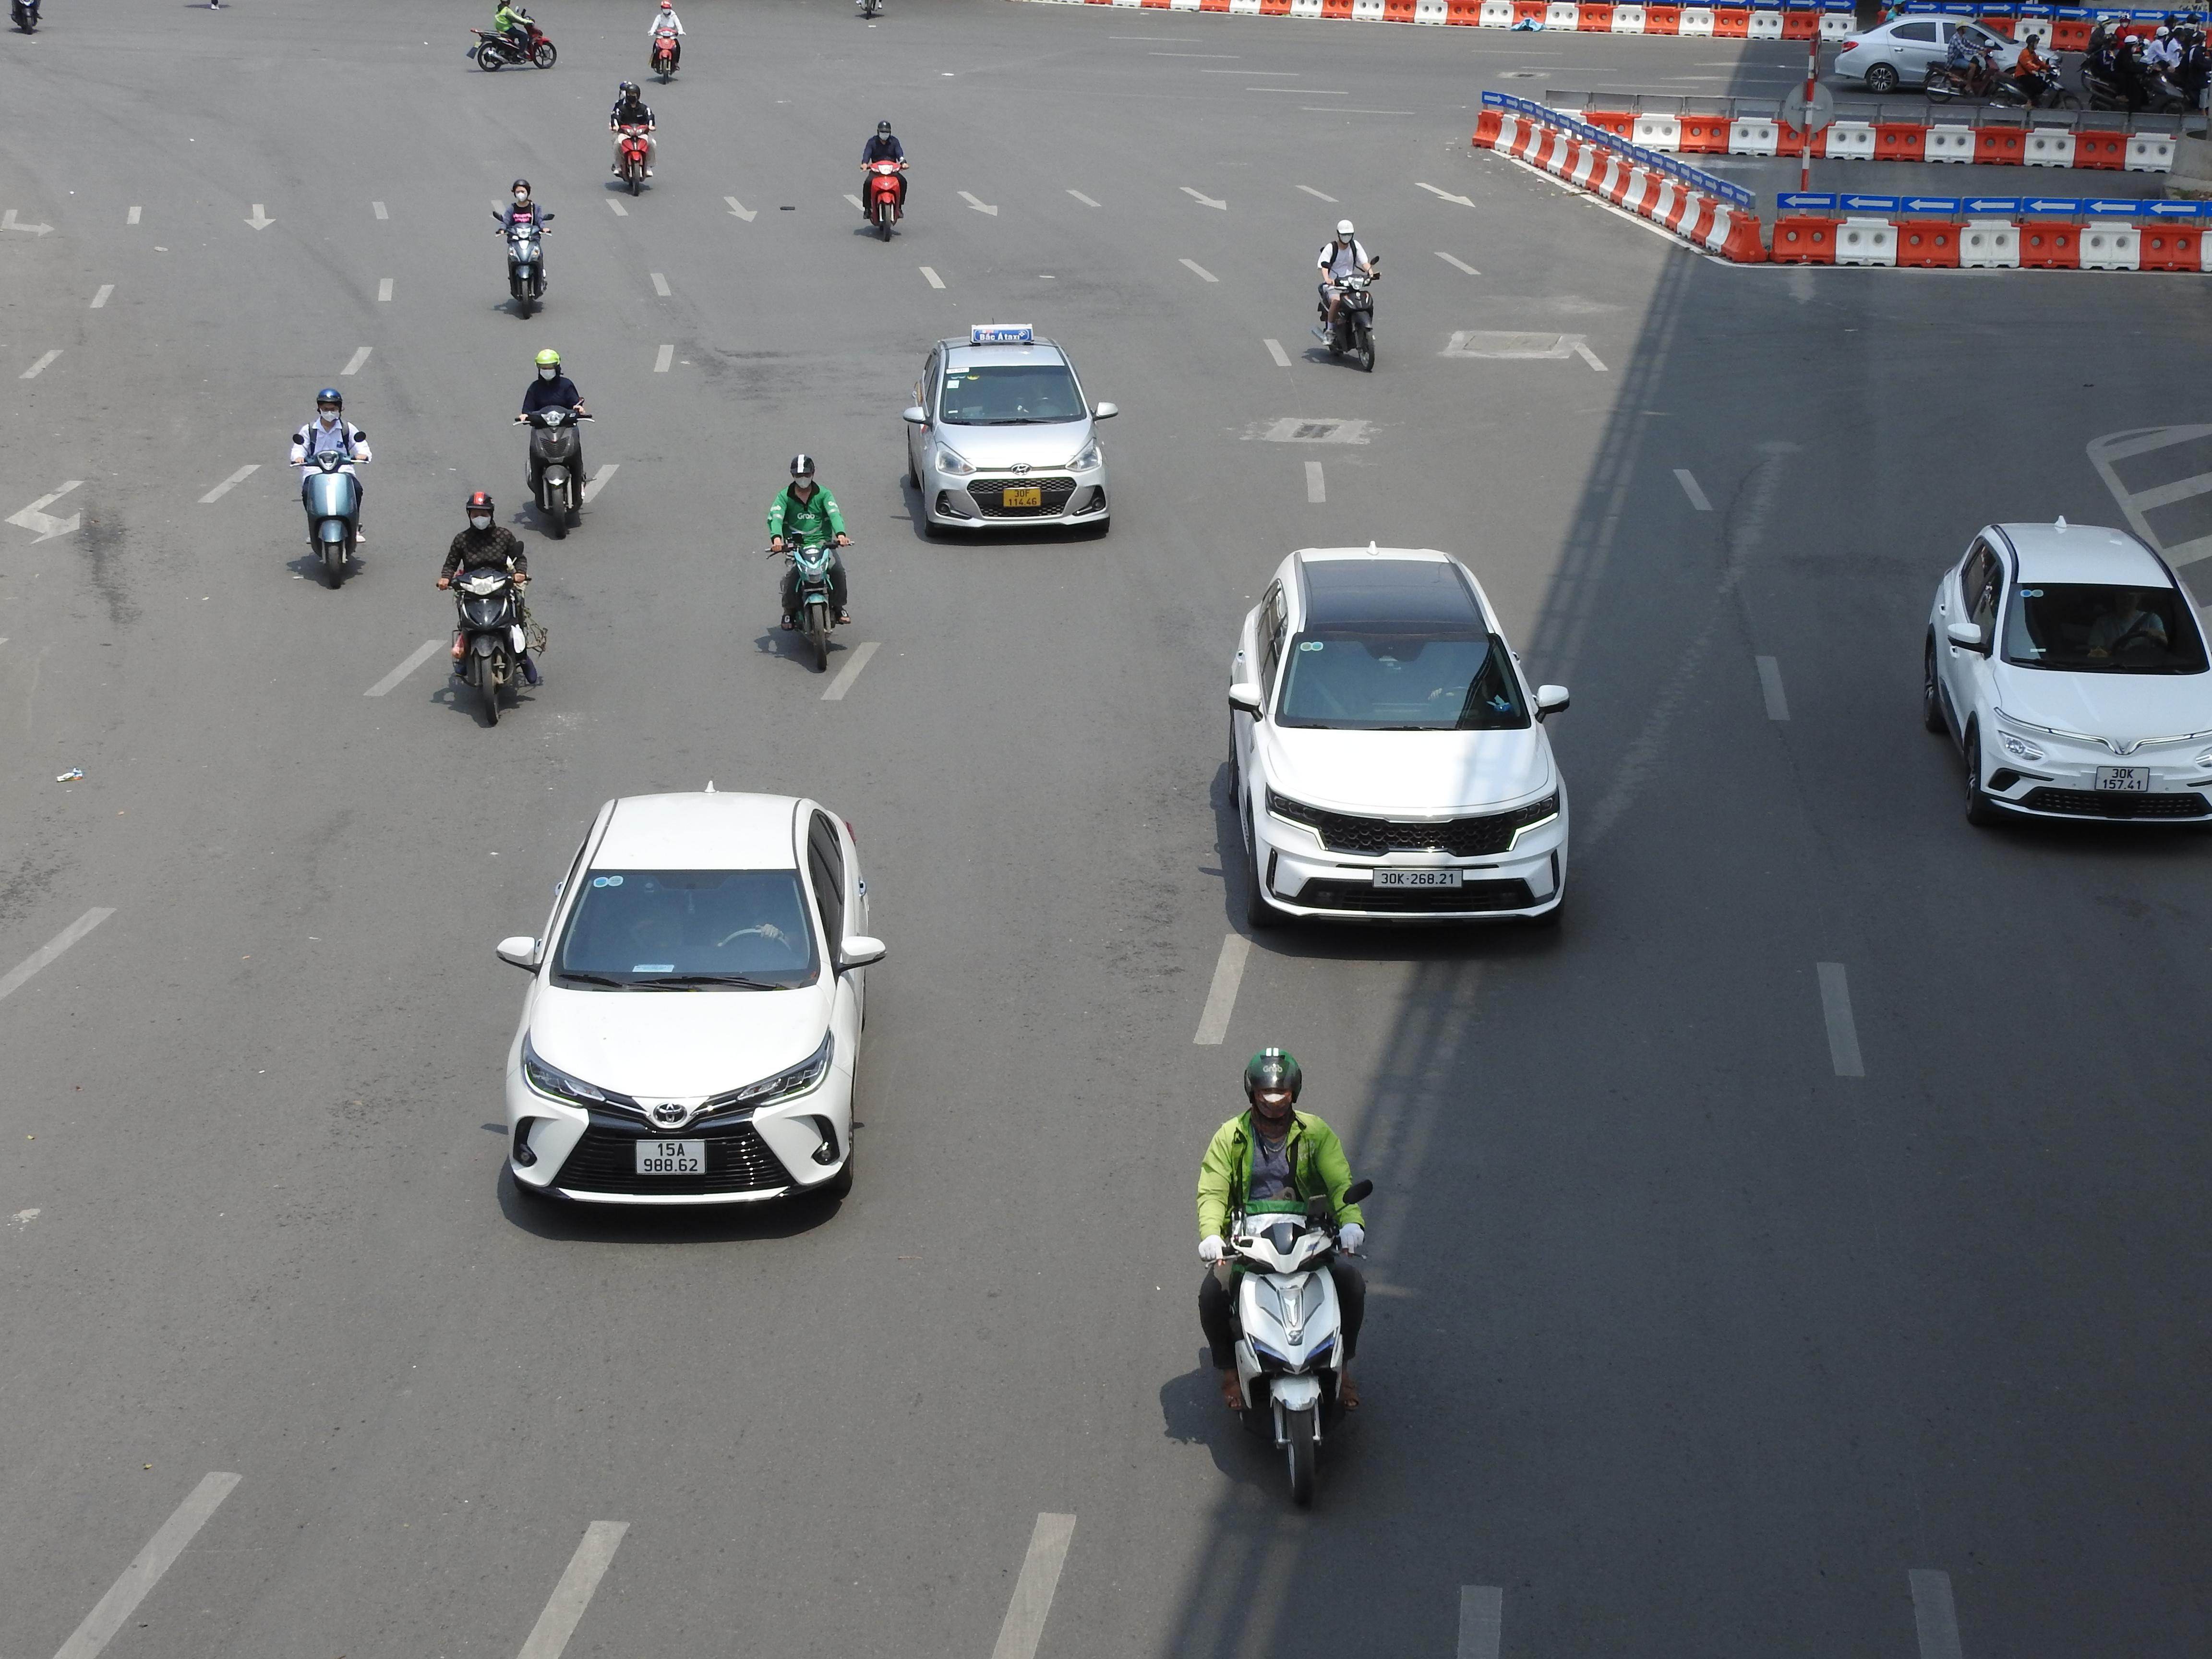BSD: (1372, 870, 1461, 889), (2095, 765, 2151, 793)
BSV: (634, 1140, 705, 1176), (1003, 488, 1042, 507)
car: (495, 789, 887, 1225), (1221, 545, 1573, 934), (1919, 518, 2212, 835), (899, 328, 1118, 542), (1832, 14, 2010, 92)
motorbike: (1197, 1046, 1372, 1511), (439, 490, 543, 728), (766, 453, 852, 674), (291, 385, 371, 591), (517, 347, 592, 538), (1312, 220, 1379, 373), (495, 178, 552, 319), (469, 0, 556, 71), (859, 118, 907, 242), (608, 80, 657, 195), (646, 0, 685, 84), (7, 0, 44, 35)
